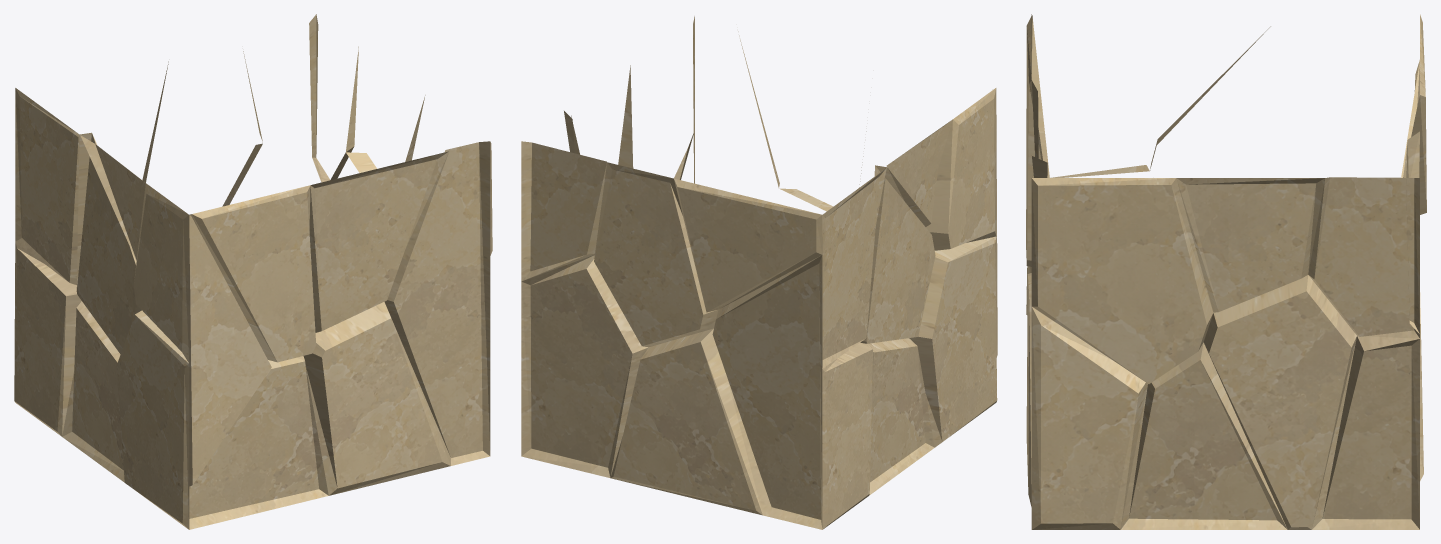
Rendered from ground_rock_02.gltf.
3 views of the same model, side by side, from view 1: azimuth 30°, elevation 25°; view 2: azimuth 150°, elevation 25°; view 3: azimuth 270°, elevation 25° (orthographic). The views are drawn at different scales.
Visible parts, largest first — view 1: ground_rock_02; view 2: ground_rock_02; view 3: ground_rock_02.
Boxes of the visible parts, left/top/right/bottom form: ground_rock_02: left=14, top=14, right=492, bottom=529; ground_rock_02: left=521, top=16, right=997, bottom=529; ground_rock_02: left=1026, top=14, right=1426, bottom=529.
Size of the model in its own units: 1.03 by 1 by 1.03.
Materials: 27 (27 with a texture image).
